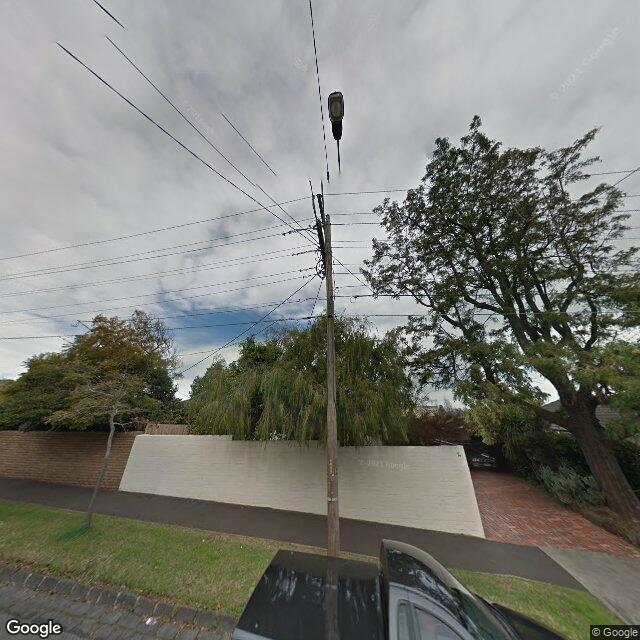crossarm: (283, 219, 327, 279), (316, 192, 326, 225)
streetlight: (327, 90, 345, 177)
timber-pole: (326, 217, 340, 557)
